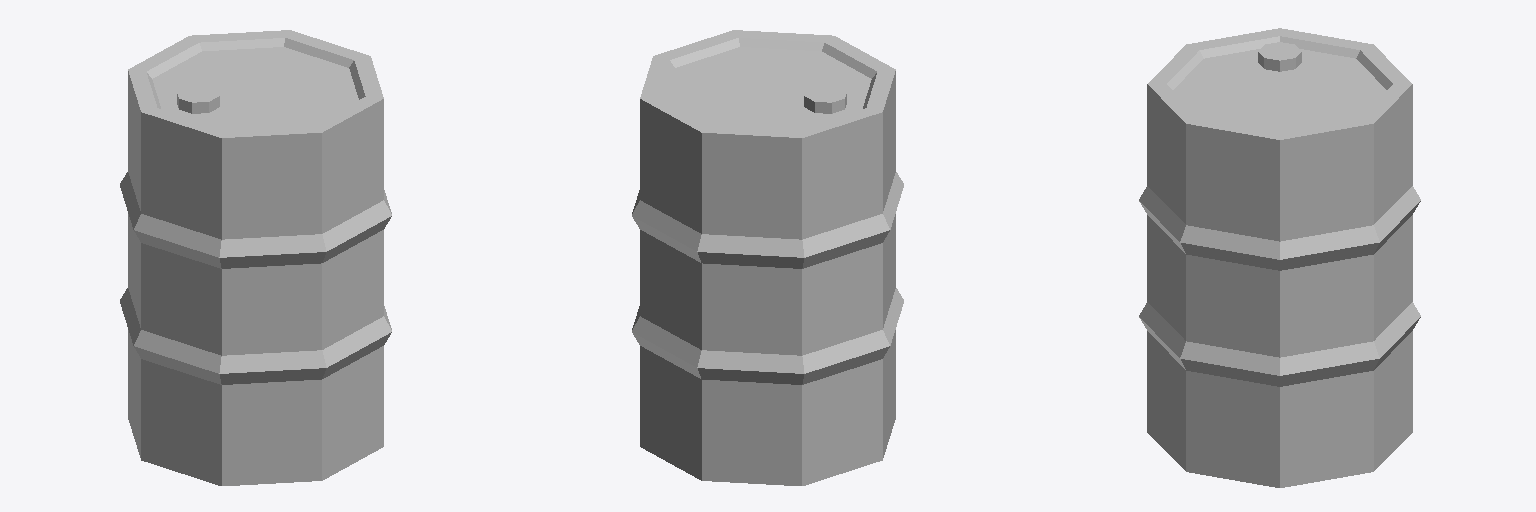
File: barrel_003.obj
The picture shows the model from 3 angles: view 1: azimuth 30°, elevation 25°; view 2: azimuth 150°, elevation 25°; view 3: azimuth 270°, elevation 25°; orthographic projection.
Parts seen in each view (by area): view 1: barrel_003; view 2: barrel_003; view 3: barrel_003.
Boxes of the visible parts, x1=… form: barrel_003: x1=120, y1=30, x2=391, y2=485; barrel_003: x1=632, y1=30, x2=903, y2=485; barrel_003: x1=1139, y1=28, x2=1420, y2=487.
Size of the model in its own units: 0.6175 by 0.8504 by 0.6175.